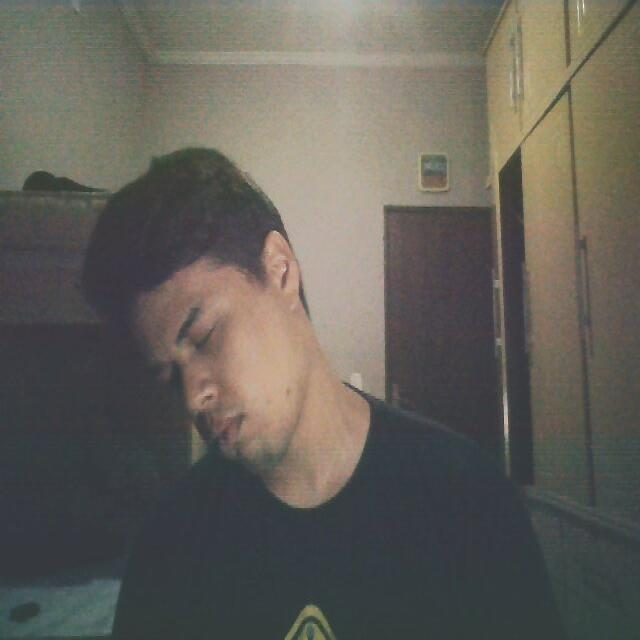sonolento: (135, 220, 376, 522)
